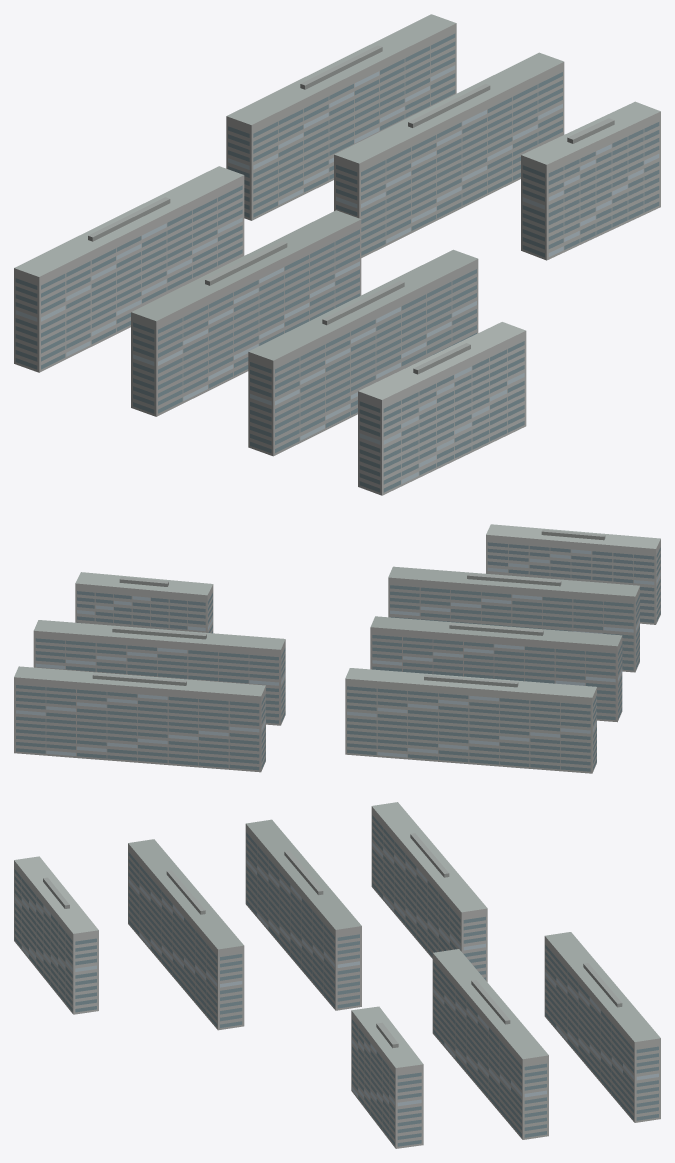
The model's file is apt-a13790929.glb.
3 views of the same model, one above another, from view 1: azimuth 30°, elevation 25°; view 2: azimuth 150°, elevation 25°; view 3: azimuth 270°, elevation 25° (orthographic). The views are drawn at different scales.
Visible parts, largest first — view 1: 신반포한신2차; view 2: 신반포한신2차; view 3: 신반포한신2차.
Part boxes in pixels (x1=…): 신반포한신2차: x1=14, y1=14, x2=660, y2=495; 신반포한신2차: x1=14, y1=524, x2=660, y2=773; 신반포한신2차: x1=14, y1=802, x2=660, y2=1148.
Bounding box in the file's own units: 258 × 38.25 × 265.
